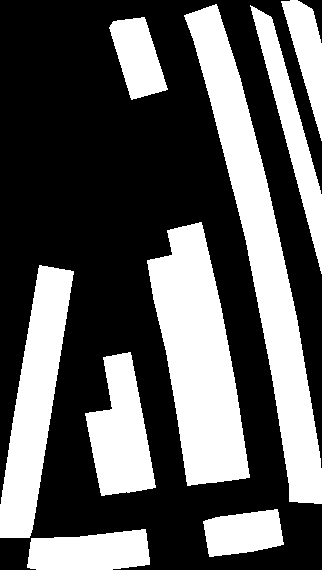parkingspot: (184, 4, 322, 503), (167, 222, 249, 482), (0, 265, 73, 537), (250, 5, 322, 279), (147, 254, 216, 485), (103, 352, 155, 492), (281, 0, 322, 145), (27, 529, 149, 570), (109, 17, 167, 99), (85, 409, 129, 495), (203, 509, 283, 556)
